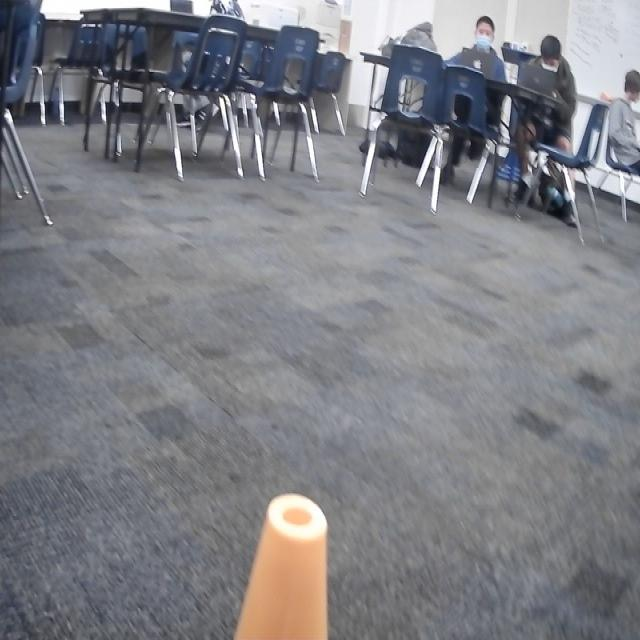cone: (234, 492, 342, 640)
